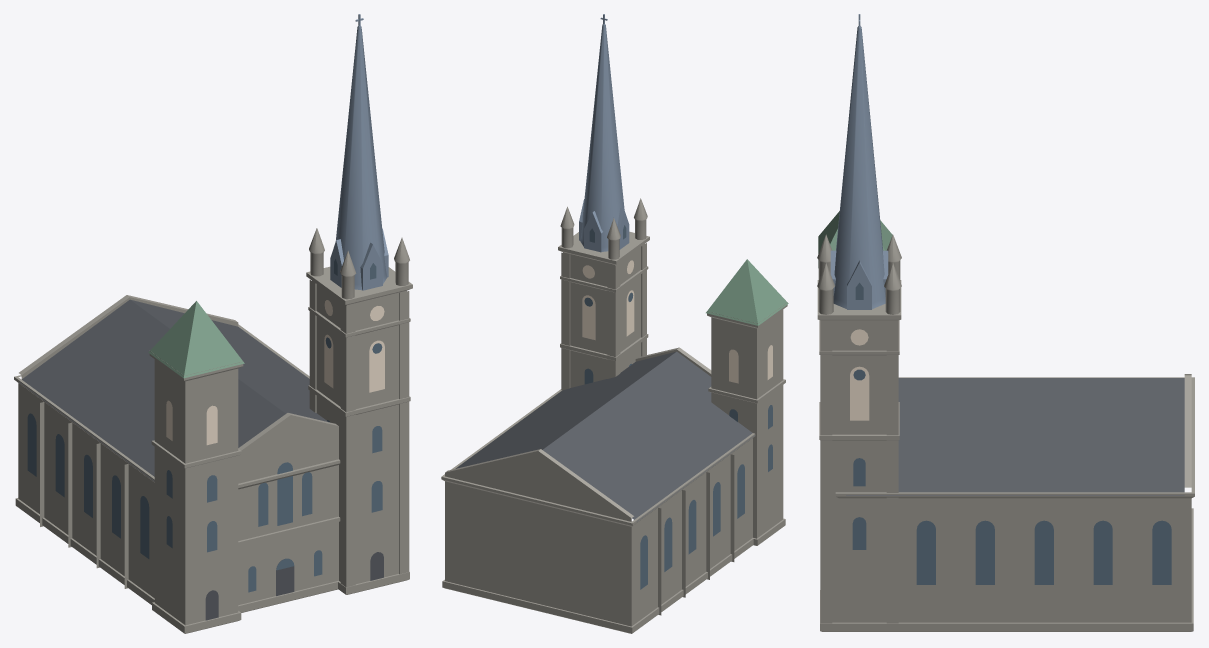
Rendered from cle-old-stone-church.glb.
3 views of the same model, side by side, from view 1: azimuth 30°, elevation 25°; view 2: azimuth 150°, elevation 25°; view 3: azimuth 270°, elevation 25° (orthographic). The views are drawn at different scales.
Parts seen in each view (by area): view 1: Old Stone Church; view 2: Old Stone Church; view 3: Old Stone Church.
Part boxes in pixels (box(x1,y1,x2,y2)): Old Stone Church: box(14, 14, 412, 633); Old Stone Church: box(441, 14, 788, 633); Old Stone Church: box(817, 14, 1194, 631).
Bounding box in the file's own units: 25.1 × 58.6 × 33.35.
